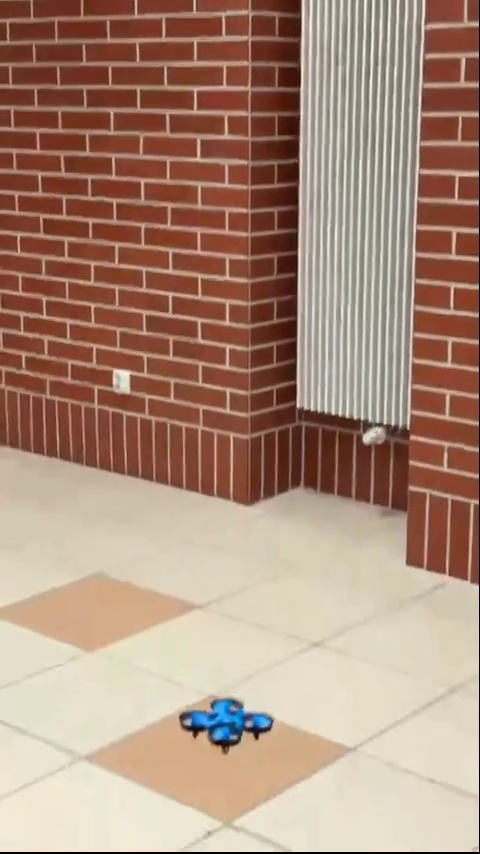drone: (175, 695, 278, 752)
